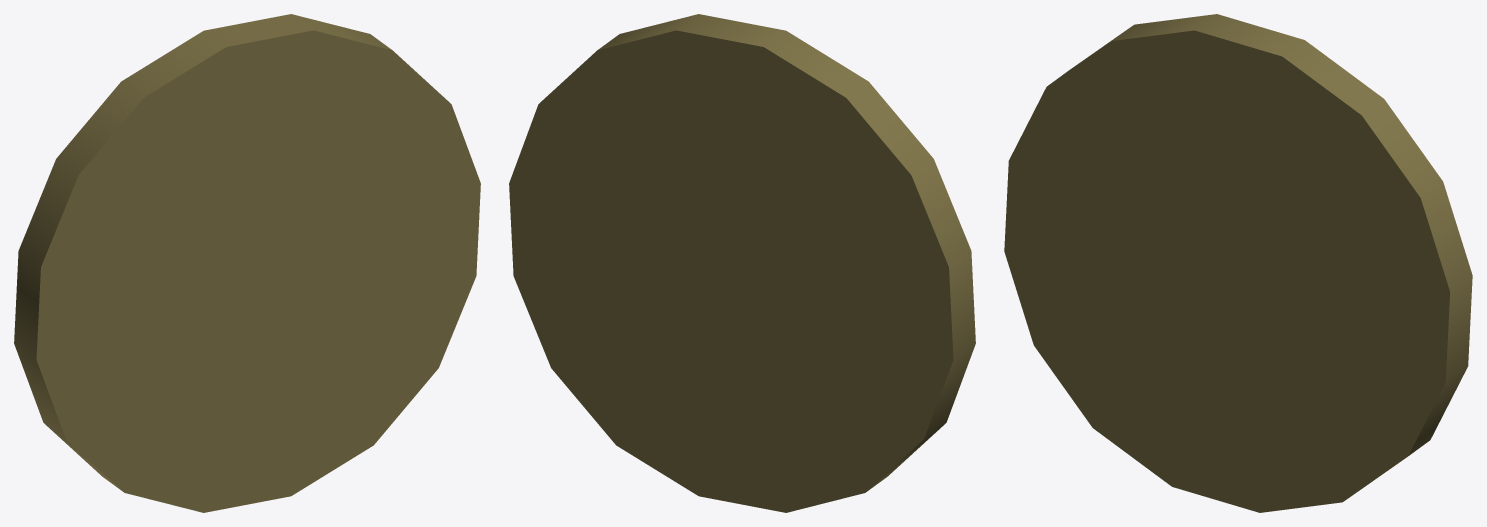
File: Lever_Special_02_Lever.fbx
3 renders of one model, left to right at view 1: azimuth 30°, elevation 25°; view 2: azimuth 150°, elevation 25°; view 3: azimuth 330°, elevation 25°, orthographic.
Parts seen in each view (by area): view 1: Lever_Special_02_Lever; view 2: Lever_Special_02_Lever; view 3: Lever_Special_02_Lever.
Part boxes in pixels (x1,y1,x2,y2): Lever_Special_02_Lever: (14,14,480,512); Lever_Special_02_Lever: (509,14,975,512); Lever_Special_02_Lever: (1004,14,1472,512).
Bounding box in the file's own units: 9.34 × 9.34 × 0.8166.
